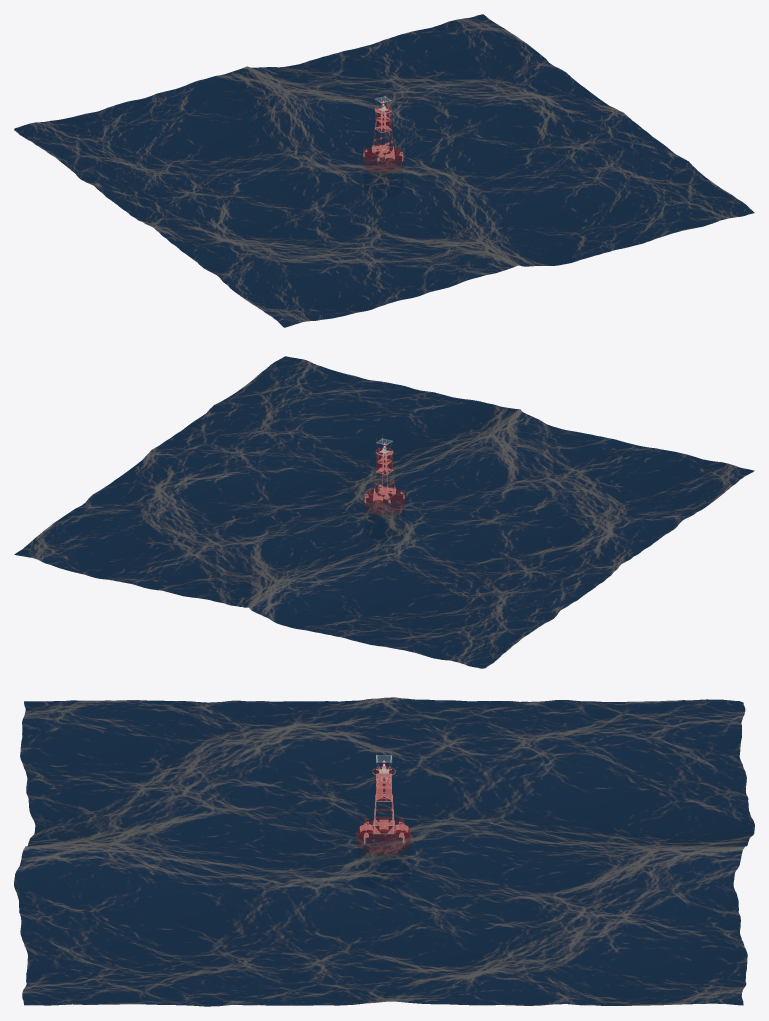
File: buoy.glb
3 views of the same model, one above another, from view 1: azimuth 30°, elevation 25°; view 2: azimuth 150°, elevation 25°; view 3: azimuth 270°, elevation 25° (orthographic). The views are drawn at different scales.
Parts seen in each view (by area): view 1: Sea_1, Navigation_Buoy_0; view 2: Sea_1, Navigation_Buoy_0; view 3: Sea_1, Navigation_Buoy_0.
Boxes of the visible parts, x1,y1,x2,y2 form: Sea_1: [14, 14, 754, 327]; Navigation_Buoy_0: [363, 96, 403, 177]; Sea_1: [14, 356, 754, 668]; Navigation_Buoy_0: [364, 438, 404, 519]; Sea_1: [14, 697, 754, 1006]; Navigation_Buoy_0: [357, 754, 410, 861].
Size of the model in its own units: 27.26 by 5.34 by 27.83.
Materials: 2 (2 with a texture image).
